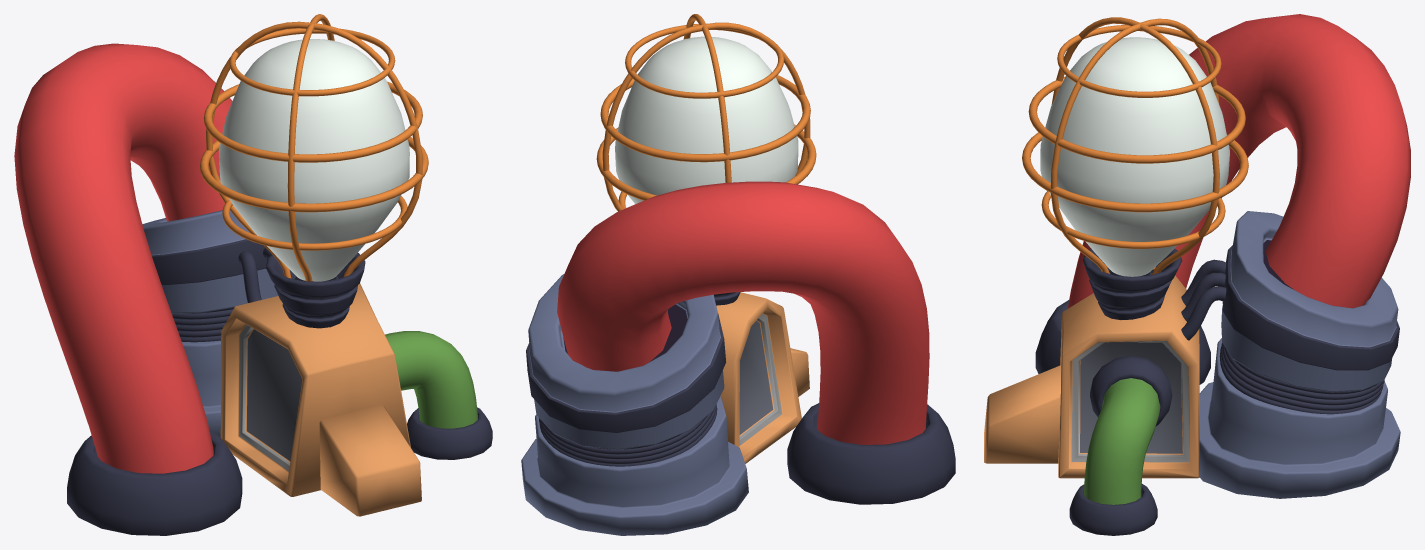
The model's file is SuperLight.glb.
The picture shows the model from 3 angles, left to right: view 1: azimuth 30°, elevation 25°; view 2: azimuth 150°, elevation 25°; view 3: azimuth 270°, elevation 25°; orthographic projection. The views are drawn at different scales.
Parts seen in each view (by area): view 1: BézierCurve.004, Cube, Cylinder, Cylinder.003, Cylinder.002, BézierCurve.005, BézierCurve, Cylinder.001, Cylinder.004, BézierCircle.001, BézierCircle, BézierCircle.002 (+3 smaller); view 2: BézierCurve.004, Cylinder.002, Cylinder, Cube, Cylinder.003, BézierCurve, BézierCircle.005, BézierCircle.001, BézierCircle.002, BézierCircle; view 3: BézierCurve.004, Cylinder.002, Cylinder, Cube, BézierCurve.005, BézierCurve, BézierCircle.005, Cylinder.001, Cylinder.004, BézierCircle.001, BézierCircle, Cylinder.005 (+6 smaller).
Boxes of the visible parts, x1,y1,x2,y2 form: BézierCurve.004: (14, 43, 232, 473); Cube: (220, 283, 421, 516); Cylinder: (219, 39, 409, 281); Cylinder.003: (67, 430, 242, 535); Cylinder.002: (142, 210, 278, 437); BézierCurve.005: (385, 331, 477, 428); BézierCurve: (206, 14, 422, 281); Cylinder.001: (266, 253, 365, 328); Cylinder.004: (407, 407, 492, 459); BézierCircle.001: (203, 81, 422, 162); BézierCircle: (199, 137, 428, 212); BézierCircle.002: (229, 28, 395, 96); BézierCurve.004: (557, 181, 929, 444); Cylinder.002: (521, 274, 748, 535); Cylinder: (615, 36, 798, 203); Cube: (716, 292, 809, 463); Cylinder.003: (787, 403, 955, 504); BézierCurve: (602, 14, 810, 211); BézierCircle.005: (538, 404, 717, 466); BézierCircle.001: (600, 75, 810, 162); BézierCircle.002: (625, 23, 784, 98); BézierCircle: (596, 124, 816, 200); BézierCurve.004: (1068, 14, 1410, 308); Cylinder.002: (1199, 211, 1400, 498); Cylinder: (1040, 37, 1229, 276); Cube: (984, 275, 1199, 478); BézierCurve.005: (1084, 378, 1160, 504); BézierCurve: (1050, 17, 1219, 274); BézierCircle.005: (1219, 342, 1384, 414); Cylinder.001: (1083, 248, 1182, 319); Cylinder.004: (1069, 483, 1157, 535); BézierCircle.001: (1028, 76, 1245, 163); BézierCircle: (1022, 132, 1248, 212); Cylinder.005: (1090, 355, 1172, 426).
Size of the model in its own units: 6.53 by 6.77 by 6.02.
